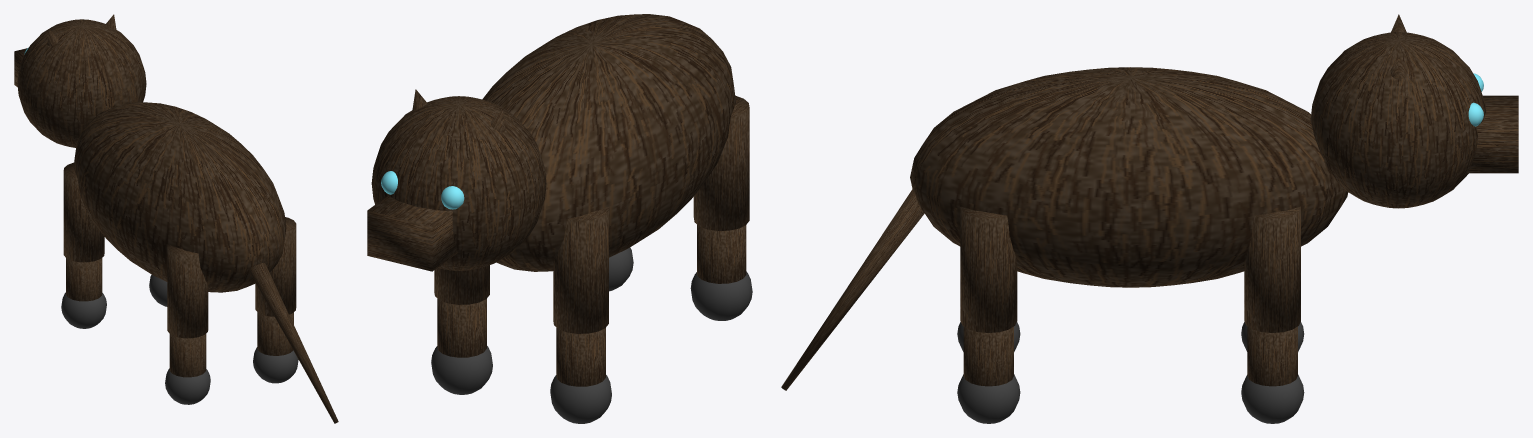
The model's file is blind-mole.glb.
The picture shows the model from 3 angles, left to right: view 1: azimuth 30°, elevation 25°; view 2: azimuth 150°, elevation 25°; view 3: azimuth 270°, elevation 25°; orthographic projection. The views are drawn at different scales.
Visible parts, largest first — view 1: Body, Head, LegUpper, LegUpper.001, Tail, LegUpper.002, LegLower, LegLower.001, Paw, Paw.001, Paw.002, LegLower.002 (+1 smaller); view 2: Body, Head, LegUpper.001, Snout, LegUpper, LegLower.001, LegLower.003, LegLower, Paw.001, Paw.003, Paw, LegUpper.003 (+2 smaller); view 3: Body, Head, LegUpper.002, LegUpper.003, Tail, Snout, LegLower.002, LegLower.003, Paw.002, Paw.003.
Part boxes in pixels (x1,y1,x2,y2): Body: (73, 102, 286, 292); Head: (17, 19, 146, 147); LegUpper: (167, 244, 208, 338); LegUpper.001: (63, 162, 104, 262); Tail: (250, 263, 338, 423); LegUpper.002: (255, 217, 296, 316); LegLower: (169, 334, 206, 377); LegLower.001: (66, 258, 102, 301); Paw: (165, 368, 210, 404); Paw.001: (61, 292, 106, 328); Paw.002: (253, 347, 298, 383); LegLower.002: (257, 312, 293, 355); Body: (482, 14, 735, 271); Head: (371, 96, 546, 270); LegUpper.001: (553, 207, 608, 333); Snout: (367, 195, 457, 271); LegUpper: (693, 95, 749, 230); LegLower.001: (556, 327, 605, 386); LegLower.003: (437, 298, 486, 357); LegLower: (697, 225, 746, 283); Paw.001: (550, 375, 611, 423); Paw.003: (431, 346, 492, 394); Paw: (690, 271, 752, 320); LegUpper.003: (434, 265, 489, 304); Body: (910, 67, 1348, 287); Head: (1310, 32, 1486, 208); LegUpper.002: (960, 206, 1017, 332); LegUpper.003: (1244, 206, 1300, 332); Tail: (781, 189, 924, 390); Snout: (1467, 95, 1518, 173); LegLower.002: (963, 326, 1013, 386); LegLower.003: (1247, 326, 1297, 386); Paw.002: (957, 374, 1020, 423); Paw.003: (1241, 374, 1304, 423).
Size of the model in its own units: 0.5535 by 0.986 by 1.85.
Materials: 3 (1 with a texture image).
